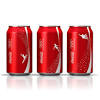coca_cola_can: (5, 25, 32, 76), (67, 25, 93, 75), (36, 25, 62, 74)
